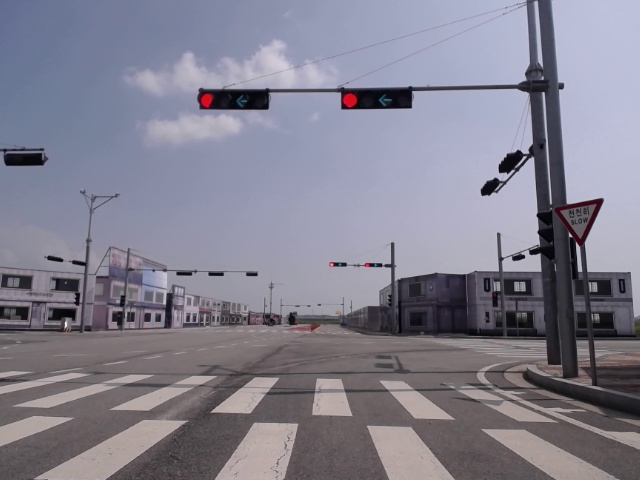left_green_4: (199, 89, 269, 110), (341, 90, 412, 108)
